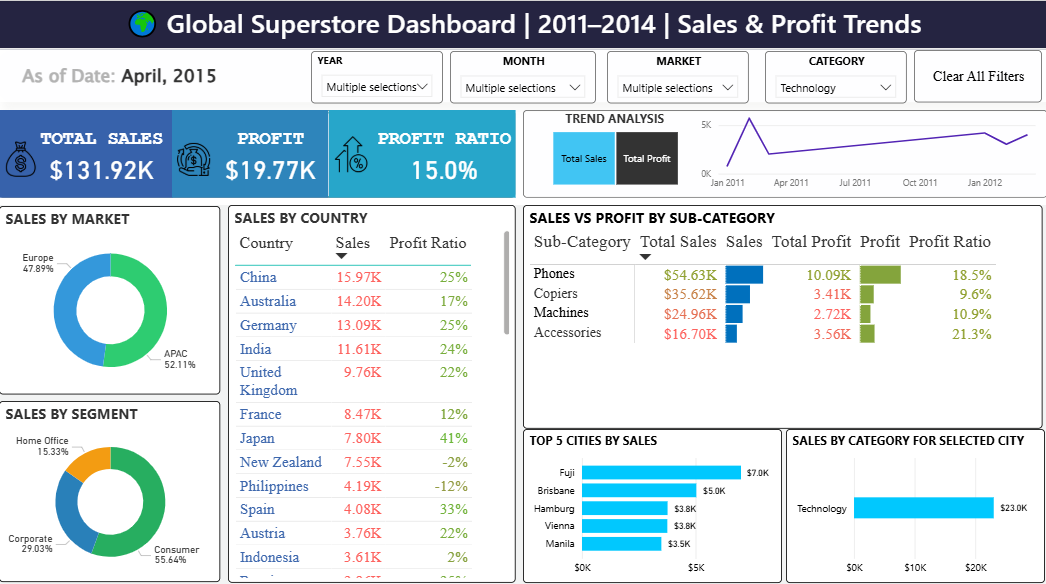

This screenshot's page, from the dashboard's own definition file:
{"tool":"powerbi","page":{"name":"Overview","canvas":[1280,720],"ordinal":0},"visuals":[{"type":"shape","box":[0,250.4,1280,470.3],"z":0},{"type":"shape","box":[0,61.2,1280,189.2],"z":1000},{"type":"shape","box":[0,134.2,630.2,107.1],"z":2000},{"type":"shape","box":[0,61.5,1280,64],"z":3000},{"type":"shape","box":[0,0,1280,59.8],"z":4000},{"type":"shape","box":[0,134.2,211.7,107.1],"z":5000},{"type":"textbox","box":[0,0,1280,60],"z":6000},{"type":"actionButton","box":[1117.5,60.3,156.3,64],"z":7000},{"type":"slicer","title":"YEAR","fields":{"Values":["Orders.Order Date.Variation.Date Hierarchy.Year"]},"box":[750.8,61.5,161.2,64],"z":8000},{"type":"slicer","title":"MONTH","fields":{"Values":["Orders.Order Date.Variation.Date Hierarchy.Month"]},"box":[925.5,61.5,179.7,64],"z":9000},{"type":"textbox","box":[13.5,71.4,491.1,41.8],"z":10000},{"type":"card","title":"TOTAL SALES","fields":{"Values":["Sum(Orders.Sales)"]},"box":[39.4,156.3,172.3,76.3],"z":11000},{"type":"shape","box":[211.7,134.2,190.8,107.1],"z":12000},{"type":"shape","box":[402.5,134.2,227.7,107.1],"z":13000},{"type":"image","box":[0,125.2,52.9,136.3],"z":14000},{"type":"image","box":[211.5,126.6,52.9,135],"z":15000},{"type":"card","title":"PROFIT","fields":{"Values":["Sum(Orders.Profit)"]},"box":[259.7,156.3,142.8,76.3],"z":16000},{"type":"card","title":"PROFIT RATIO","fields":{"Values":["Orders.Profit Ratio"]},"box":[456.6,156.3,173.5,76.3],"z":17000},{"type":"image","box":[402.5,134.2,54.2,107.1],"z":18000},{"type":"shape","box":[640,134.2,640,107.1],"z":19000},{"type":"lineChart","fields":{"Y":["Orders.Total Profit"],"Category":["Orders.Order Date.Variation.Date Hierarchy.Year","Orders.Order Date.Variation.Date Hierarchy.Month"]},"box":[851.5,126.6,428.5,114.1],"z":20000},{"type":"slicer","title":"TREND ANALYSIS","fields":{"Values":["Trend Selector.Trend Selector"]},"box":[649.8,134.2,201.8,98.5],"z":21000},{"type":"donutChart","title":"SALES BY SEGMENT","fields":{"Y":["Sum(Orders.Sales)"],"Category":["Orders.Segment"]},"box":[0,489.7,269.9,221.2],"z":22000},{"type":"donutChart","title":"SALES BY MARKET","fields":{"Y":["Sum(Orders.Sales)"],"Category":["Orders.Market"]},"box":[0,251.8,269.9,229.6],"z":23000},{"type":"tableEx","title":"SALES BY COUNTRY","fields":{"Values":["Orders.Country","Sum(Orders.Sales)","Orders.Profit Ratio"]},"box":[279.7,250.4,350.6,460.5],"z":24000},{"type":"pivotTable","title":"SALES VS PROFIT BY SUB-CATEGORY","fields":{"Rows":["Orders.Sub-Category"],"Values":["Orders.Total Sales","Sum(Orders.Sales)","Orders.Total Profit","Sum(Orders.Profit)","Orders.Profit Ratio"]},"box":[640,249.8,633.8,273.2],"z":25000},{"type":"barChart","title":"TOP 5 CITIES BY SALES","fields":{"Category":["Orders.City"],"Y":["Sum(Orders.Sales)"]},"box":[640,523.1,315.8,187.8],"z":26000},{"type":"barChart","title":"SALES BY CATEGORY FOR SELECTED CITY","fields":{"Y":["Sum(Orders.Sales)"],"Category":["Orders.Category"]},"box":[960,523.1,315.8,187.8],"z":27000}]}

Visuals, with their boxes in screenshot pixels (x1, y1, x2, y2), scaled from the page's 1280x720 canvas onto the 1046x584 screenshot:
shape: {"left": 0, "top": 203, "right": 1045, "bottom": 583}
shape: {"left": 0, "top": 50, "right": 1045, "bottom": 203}
shape: {"left": 0, "top": 109, "right": 515, "bottom": 196}
shape: {"left": 0, "top": 50, "right": 1045, "bottom": 102}
shape: {"left": 0, "top": 0, "right": 1045, "bottom": 49}
shape: {"left": 0, "top": 109, "right": 173, "bottom": 196}
textbox: {"left": 0, "top": 0, "right": 1045, "bottom": 49}
actionButton: {"left": 913, "top": 49, "right": 1041, "bottom": 101}
"YEAR" slicer: {"left": 614, "top": 50, "right": 745, "bottom": 102}
"MONTH" slicer: {"left": 756, "top": 50, "right": 903, "bottom": 102}
textbox: {"left": 11, "top": 58, "right": 412, "bottom": 92}
"TOTAL SALES" card: {"left": 32, "top": 127, "right": 173, "bottom": 189}
shape: {"left": 173, "top": 109, "right": 329, "bottom": 196}
shape: {"left": 329, "top": 109, "right": 515, "bottom": 196}
image: {"left": 0, "top": 102, "right": 43, "bottom": 212}
image: {"left": 173, "top": 103, "right": 216, "bottom": 212}
"PROFIT" card: {"left": 212, "top": 127, "right": 329, "bottom": 189}
"PROFIT RATIO" card: {"left": 373, "top": 127, "right": 515, "bottom": 189}
image: {"left": 329, "top": 109, "right": 373, "bottom": 196}
shape: {"left": 523, "top": 109, "right": 1045, "bottom": 196}
lineChart - Orders.Total Profit x Orders.Order Date.Variation.Date Hierarchy.Year: {"left": 696, "top": 103, "right": 1045, "bottom": 195}
"TREND ANALYSIS" slicer: {"left": 531, "top": 109, "right": 696, "bottom": 189}
"SALES BY SEGMENT" donutChart: {"left": 0, "top": 397, "right": 221, "bottom": 577}
"SALES BY MARKET" donutChart: {"left": 0, "top": 204, "right": 221, "bottom": 390}
"SALES BY COUNTRY" tableEx: {"left": 229, "top": 203, "right": 515, "bottom": 577}
"SALES VS PROFIT BY SUB-CATEGORY" pivotTable: {"left": 523, "top": 203, "right": 1041, "bottom": 424}
"TOP 5 CITIES BY SALES" barChart: {"left": 523, "top": 424, "right": 781, "bottom": 577}
"SALES BY CATEGORY FOR SELECTED CITY" barChart: {"left": 784, "top": 424, "right": 1043, "bottom": 577}
